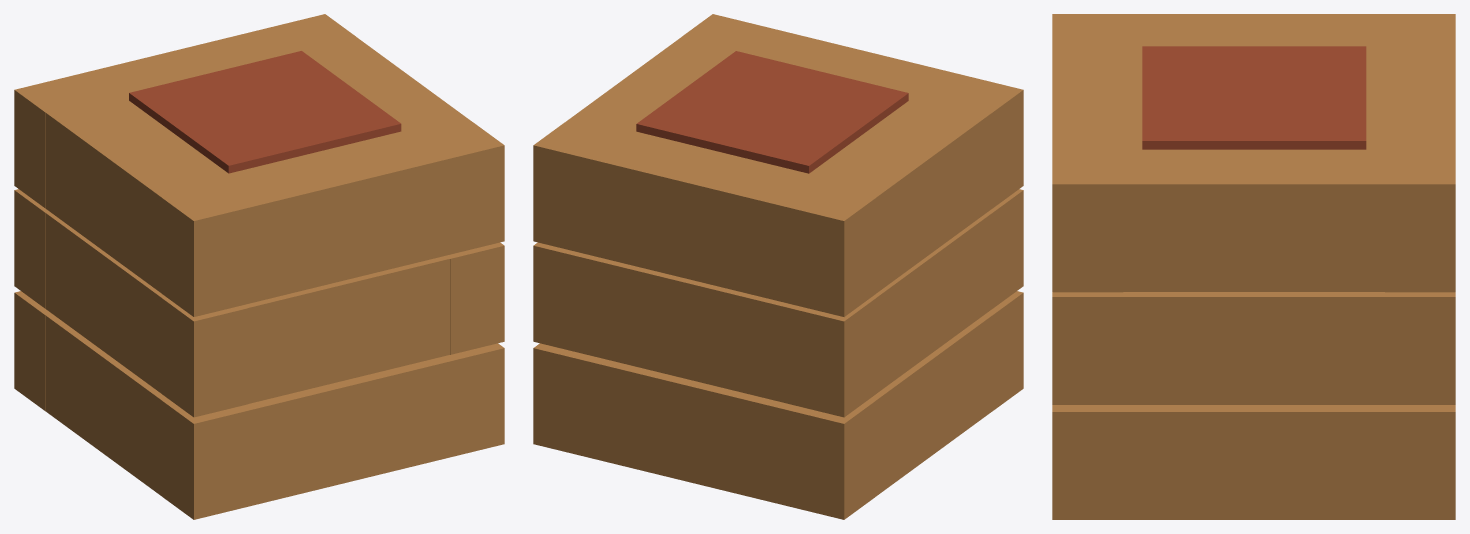
3 renders of one model, left to right at view 1: azimuth 30°, elevation 25°; view 2: azimuth 150°, elevation 25°; view 3: azimuth 270°, elevation 25°, orthographic. The views are drawn at different scales.
Parts seen in each view (by area): view 1: Cube, Cube.003, Cube.002, Cube.004, Cube.001; view 2: Cube, Cube.003, Cube.001, Cube.004, Cube.002; view 3: Cube, Cube.004, Cube.001, Cube.002, Cube.003.
Part boxes in pixels (x1,y1,x2,y2): Cube: (30,14,504,517); Cube.003: (15,76,248,519); Cube.002: (162,133,502,519); Cube.004: (129,51,401,173); Cube.001: (14,21,354,411); Cube: (533,14,1018,517); Cube.003: (790,76,1023,519); Cube.001: (533,125,875,519); Cube.004: (636,51,908,173); Cube.002: (694,17,1023,411); Cube: (1052,16,1455,519); Cube.004: (1142,46,1366,149); Cube.001: (1385,184,1455,519); Cube.002: (1053,184,1123,519); Cube.003: (1052,14,1455,43).
Bounding box in the file's own units: 200 × 191 × 200.
